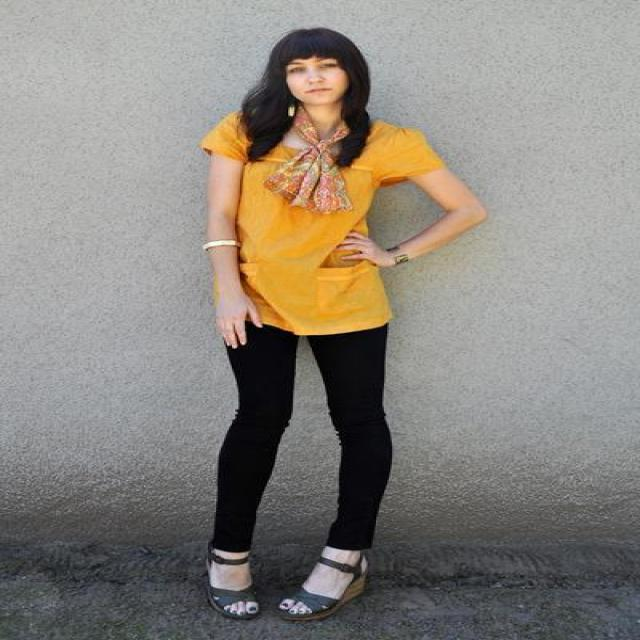pants: (208, 321, 390, 563)
shirt: (203, 116, 440, 335)
shoe: (202, 557, 386, 623)
